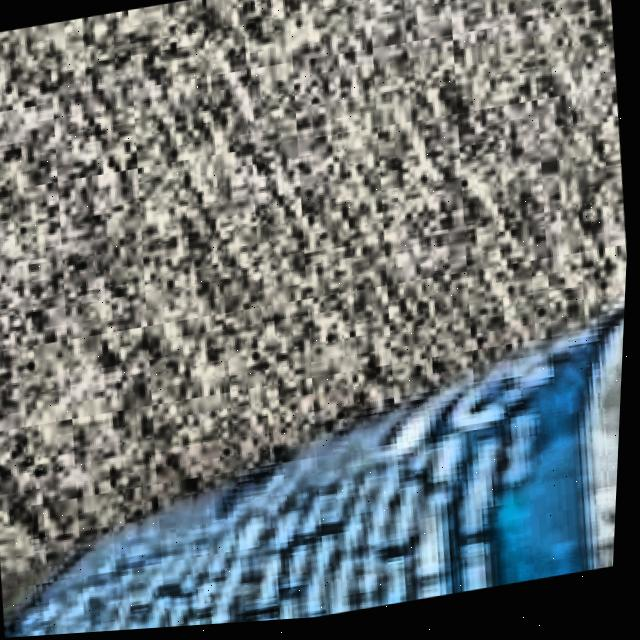plastic: (0, 250, 630, 640)
